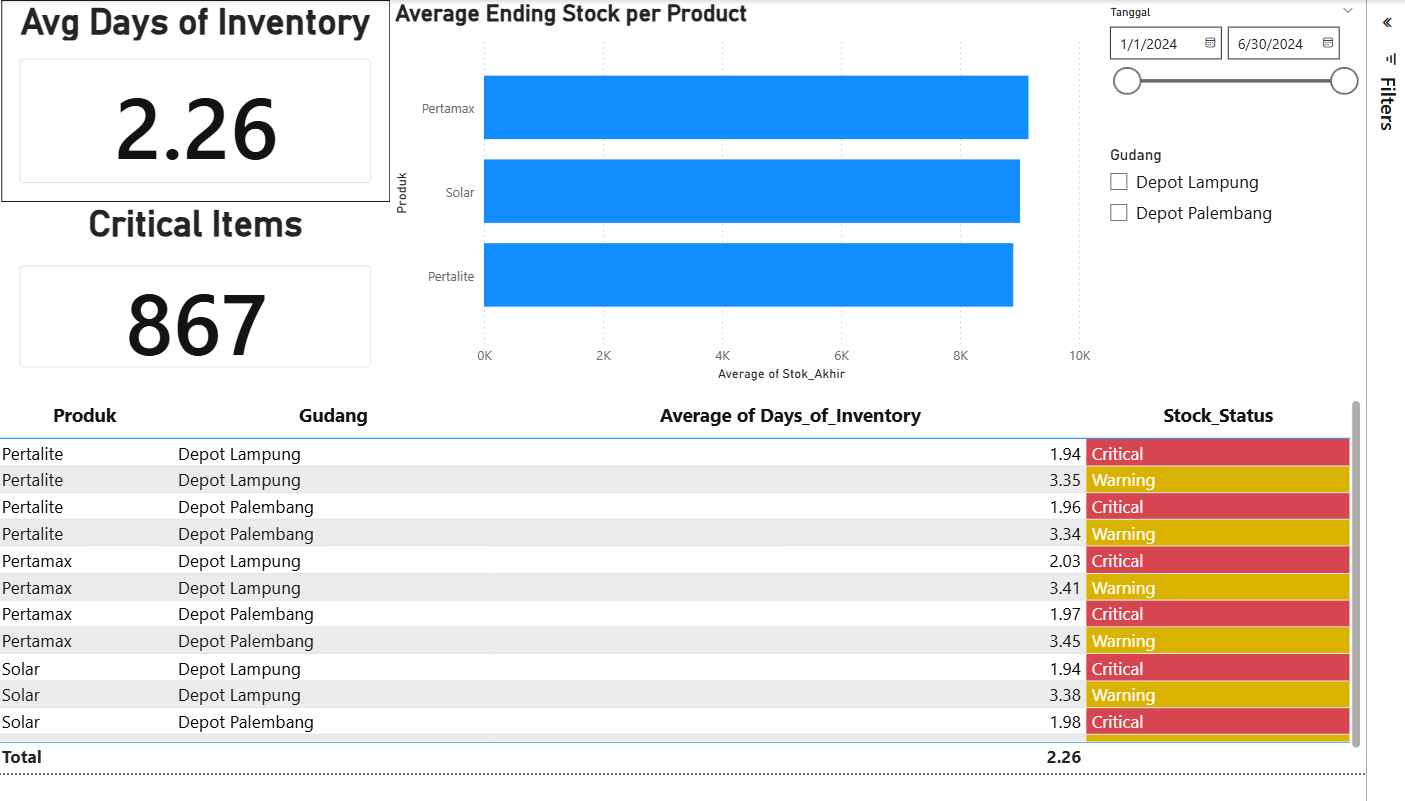

What the dashboard file says about the page in this screenshot:
{"tool":"powerbi","page":{"name":"Page 1","canvas":[1280,720],"ordinal":0},"visuals":[{"type":"cardVisual","title":"Avg Days of Inventory","fields":{"Data":["Avg(tbl_inventory.Days_of_Inventory)"]},"box":[10.7,0,361.9,180.3],"z":0},{"type":"cardVisual","title":"Critical Items","fields":{"Data":["CountNonNull(tbl_inventory.Stock_Status)"]},"box":[10.7,188.7,361.9,170.9],"z":1000},{"type":"tableEx","fields":{"Values":["tbl_inventory.Produk","tbl_inventory.Gudang","Avg(tbl_inventory.Days_of_Inventory)","tbl_inventory.Stock_Status"]},"box":[0,367.4,1280.4,352.8],"z":2000},{"type":"clusteredBarChart","title":"Average Ending Stock per Product","fields":{"Category":["tbl_inventory.Produk"],"Y":["Avg(tbl_inventory.Stok_Akhir)"]},"box":[372.6,0,656.1,359.5],"z":3000},{"type":"slicer","fields":{"Values":["tbl_inventory.Gudang"]},"box":[1028.7,130.5,251.5,99.7],"z":4000},{"type":"slicer","fields":{"Values":["tbl_inventory.Tanggal"]},"box":[1028.7,0,251.5,130.5],"z":5000}]}

Visuals, with their boxes on the page's 1280x720 design canvas (x1, y1, x2, y2). These are canvas units, not pixel positions in the 1405x801 screenshot, which may show the page scaled, cropped or inside an application window:
"Avg Days of Inventory" cardVisual: <bbox>11, 0, 373, 180</bbox>
"Critical Items" cardVisual: <bbox>11, 189, 373, 360</bbox>
tableEx - tbl_inventory.Produk x tbl_inventory.Gudang: <bbox>0, 367, 1280, 720</bbox>
"Average Ending Stock per Product" clusteredBarChart: <bbox>373, 0, 1029, 360</bbox>
slicer - tbl_inventory.Gudang: <bbox>1029, 130, 1280, 230</bbox>
slicer - tbl_inventory.Tanggal: <bbox>1029, 0, 1280, 130</bbox>
